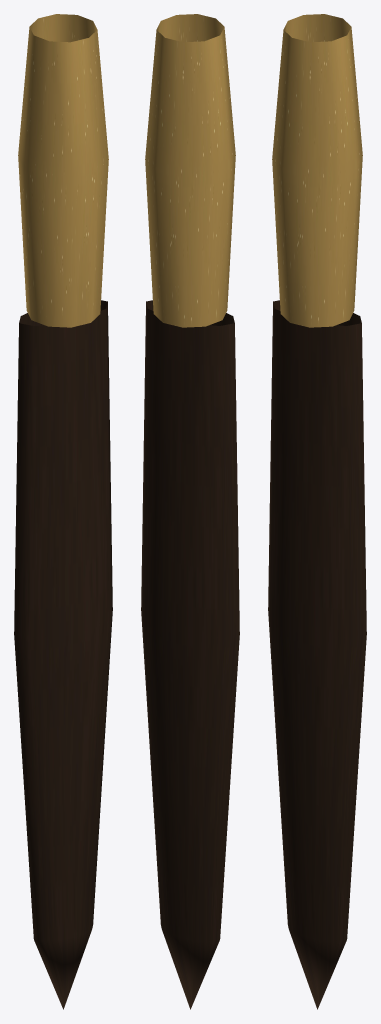
The model's file is hancer.glb.
3 renders of one model, left to right at view 1: azimuth 30°, elevation 25°; view 2: azimuth 150°, elevation 25°; view 3: azimuth 330°, elevation 25°, orthographic.
Visible parts, largest first — view 1: hancer; view 2: hancer; view 3: hancer.
Part boxes in pixels (x1,y1,x2,y2): hancer: (14, 14, 112, 1009); hancer: (141, 14, 239, 1009); hancer: (268, 14, 366, 1009).
Size of the model in its own units: 0.04 by 0.38 by 0.0304.
Materials: 2 (2 with a texture image).
